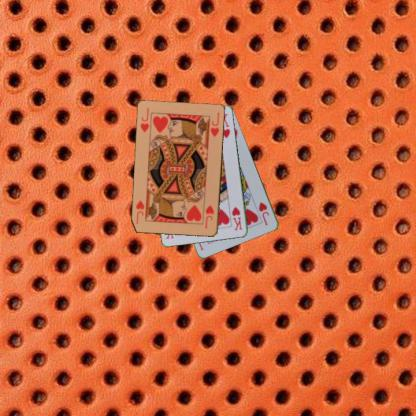Jh: (256, 200, 270, 226), (202, 203, 216, 229), (138, 106, 151, 133)
Kh: (229, 204, 244, 232)
